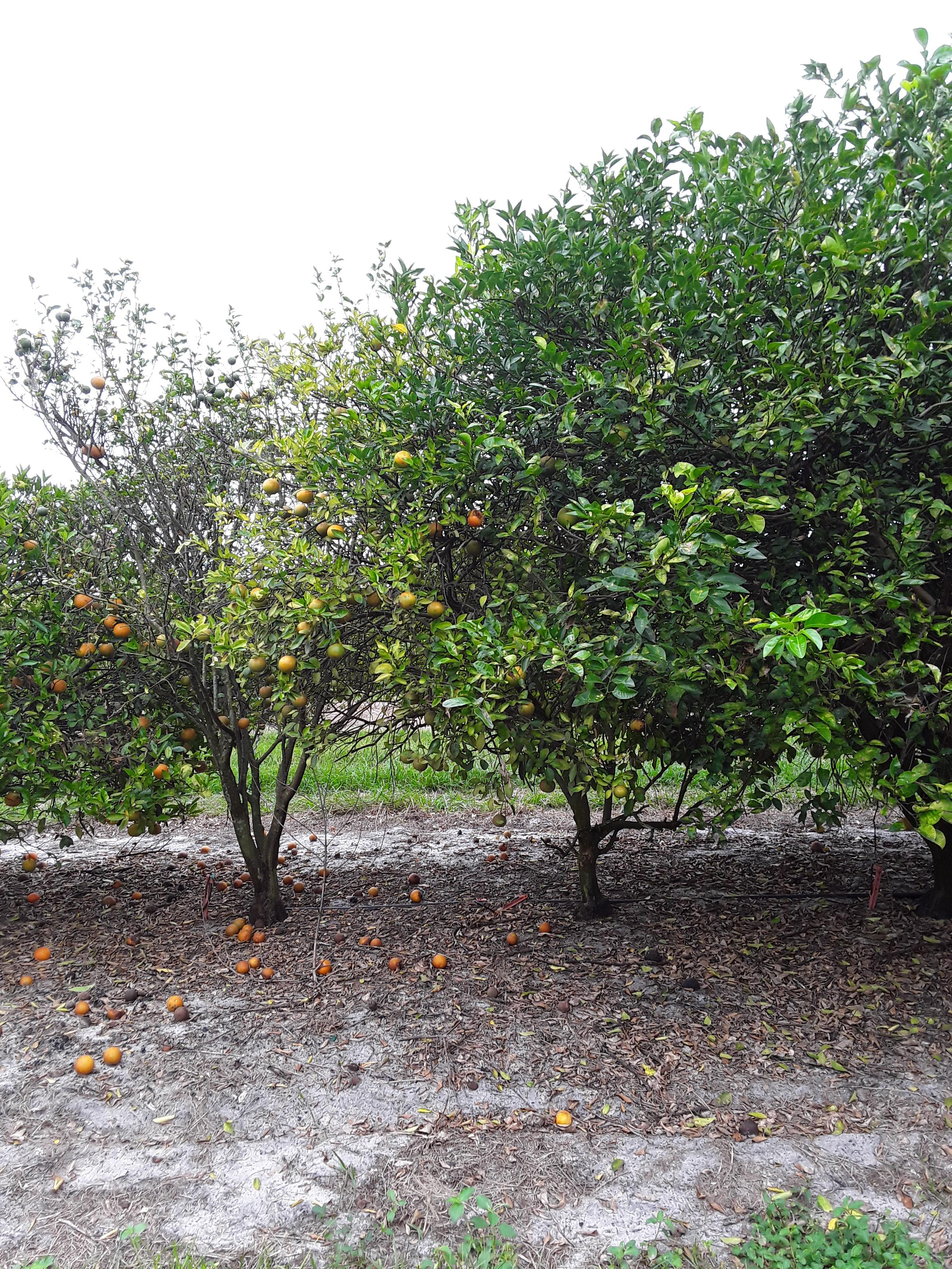fruit_on_ground: (555, 501, 584, 528), (709, 432, 736, 460), (502, 664, 527, 687), (610, 422, 633, 444), (536, 453, 558, 476), (392, 448, 415, 469), (249, 584, 270, 605), (465, 508, 486, 529), (260, 475, 282, 495), (425, 599, 446, 619), (397, 589, 417, 609), (276, 653, 297, 672), (3, 789, 24, 808), (328, 402, 350, 420), (293, 618, 315, 636), (807, 740, 827, 759), (247, 654, 267, 673), (87, 441, 107, 460), (464, 538, 484, 557), (516, 698, 536, 717), (112, 621, 133, 639), (134, 712, 153, 731), (426, 519, 445, 538), (151, 762, 170, 781), (326, 642, 345, 661), (332, 607, 352, 625), (609, 781, 629, 799), (178, 724, 198, 742), (327, 522, 347, 540), (75, 641, 96, 658), (5, 673, 24, 691), (194, 624, 213, 642), (296, 487, 315, 505), (537, 776, 556, 794), (49, 676, 68, 694), (72, 591, 92, 608), (103, 811, 124, 827), (364, 589, 382, 607), (89, 372, 107, 390), (36, 659, 55, 676), (422, 707, 439, 726), (627, 717, 646, 734), (165, 636, 183, 653), (307, 597, 325, 614), (314, 520, 331, 537), (411, 755, 428, 772), (98, 640, 115, 657), (403, 688, 421, 704), (125, 806, 143, 822), (291, 502, 309, 518), (126, 821, 144, 837), (314, 490, 331, 506), (154, 632, 170, 649), (291, 691, 308, 707), (146, 819, 163, 835), (107, 594, 126, 608), (177, 673, 193, 689), (21, 858, 37, 874), (21, 537, 38, 552), (257, 684, 274, 699), (12, 565, 28, 580), (215, 711, 231, 726), (276, 701, 292, 716), (235, 715, 251, 730), (137, 638, 154, 652), (80, 442, 94, 459), (397, 750, 412, 765), (103, 612, 118, 627), (194, 760, 210, 774), (62, 565, 77, 579), (491, 813, 506, 827), (35, 505, 49, 518), (260, 697, 274, 710), (263, 673, 277, 686), (0, 696, 10, 713), (238, 389, 251, 402), (213, 387, 227, 399), (59, 311, 72, 323), (204, 367, 216, 378), (226, 356, 239, 366), (225, 378, 236, 389), (54, 312, 64, 323), (63, 307, 73, 317), (196, 392, 206, 402), (233, 392, 243, 402), (190, 399, 201, 408), (231, 373, 241, 382), (224, 374, 232, 383)
fruit_on_tree: (101, 1045, 123, 1067), (74, 1053, 96, 1075), (737, 1117, 760, 1137), (642, 946, 665, 965), (681, 974, 702, 992), (553, 1109, 573, 1127), (165, 994, 184, 1012), (32, 945, 52, 962), (171, 1007, 190, 1024), (122, 986, 140, 1003), (74, 999, 91, 1016), (431, 953, 448, 969), (555, 998, 572, 1013), (237, 927, 254, 942), (224, 920, 240, 935), (809, 839, 826, 853), (316, 960, 333, 974), (18, 973, 34, 987), (386, 956, 402, 970), (505, 930, 519, 946), (485, 986, 502, 999), (251, 930, 266, 944), (234, 959, 249, 973), (811, 822, 826, 835), (236, 869, 252, 881), (24, 850, 38, 863), (292, 879, 306, 892), (261, 967, 275, 980), (248, 955, 262, 968), (102, 894, 117, 906), (26, 891, 41, 903), (498, 848, 511, 861), (366, 999, 379, 1012), (349, 1073, 362, 1086), (410, 889, 423, 902), (538, 920, 551, 933), (235, 916, 249, 928), (105, 1007, 119, 1019), (15, 872, 30, 883), (240, 923, 255, 934), (497, 840, 510, 852), (234, 871, 247, 883), (110, 877, 123, 889), (408, 872, 421, 884), (367, 885, 380, 897), (35, 859, 48, 871), (216, 879, 228, 891), (357, 934, 369, 946), (317, 866, 330, 877), (370, 936, 383, 947), (125, 935, 137, 946), (334, 932, 345, 944), (275, 854, 287, 865), (485, 851, 497, 862), (200, 843, 212, 854), (130, 889, 142, 900), (282, 874, 294, 885), (213, 860, 226, 870), (312, 883, 324, 893), (502, 828, 514, 838), (176, 849, 188, 859), (196, 860, 208, 870), (145, 903, 158, 912), (411, 855, 423, 864), (286, 841, 298, 850), (222, 857, 234, 866), (308, 832, 318, 842), (353, 888, 363, 898)
